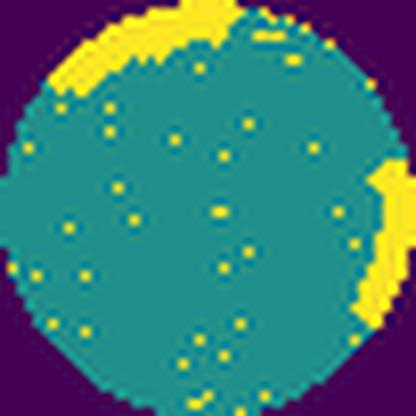Edge-Loc: (44, 0, 247, 101), (351, 154, 416, 334)
